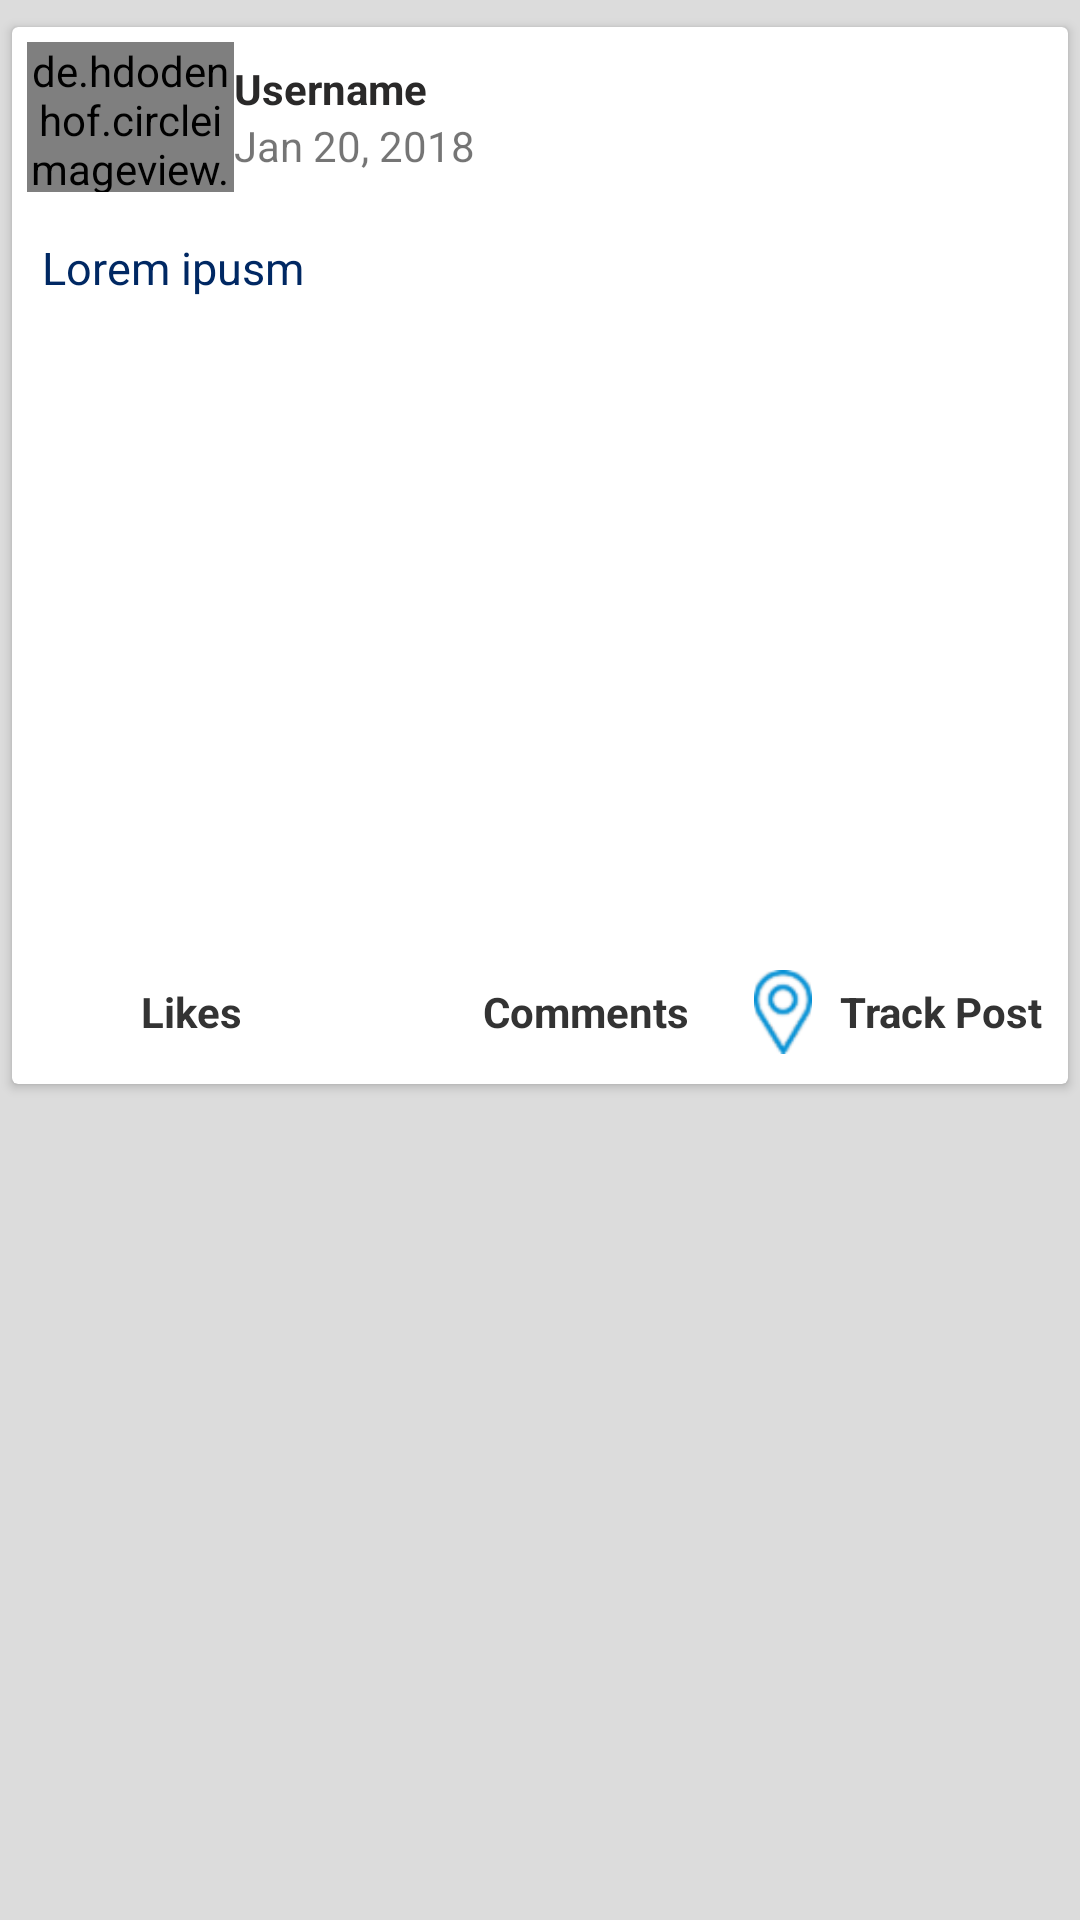

Named icons in this screenshot (1080 x 1920) and their centers, [x,y]:
location: [783,1012]
